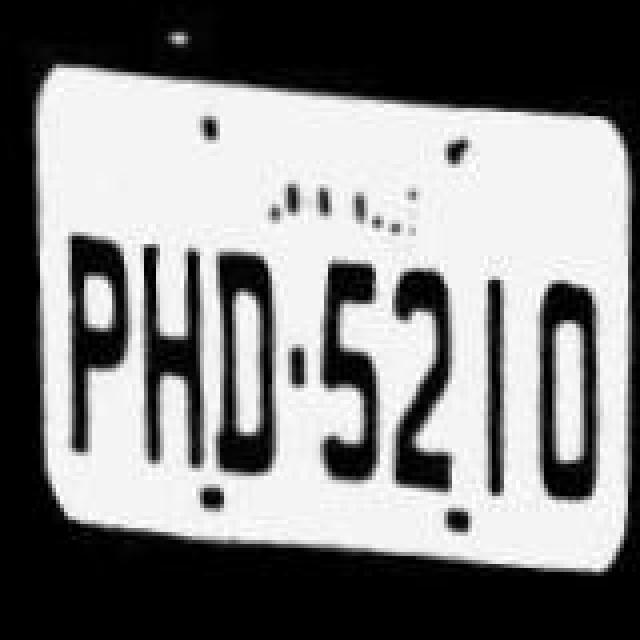1: (466, 250, 522, 494)
2: (380, 232, 464, 492)
5: (296, 226, 388, 482)
D: (190, 230, 286, 494)
H: (118, 230, 206, 494)
O: (516, 258, 608, 510)
P: (38, 232, 126, 496)
